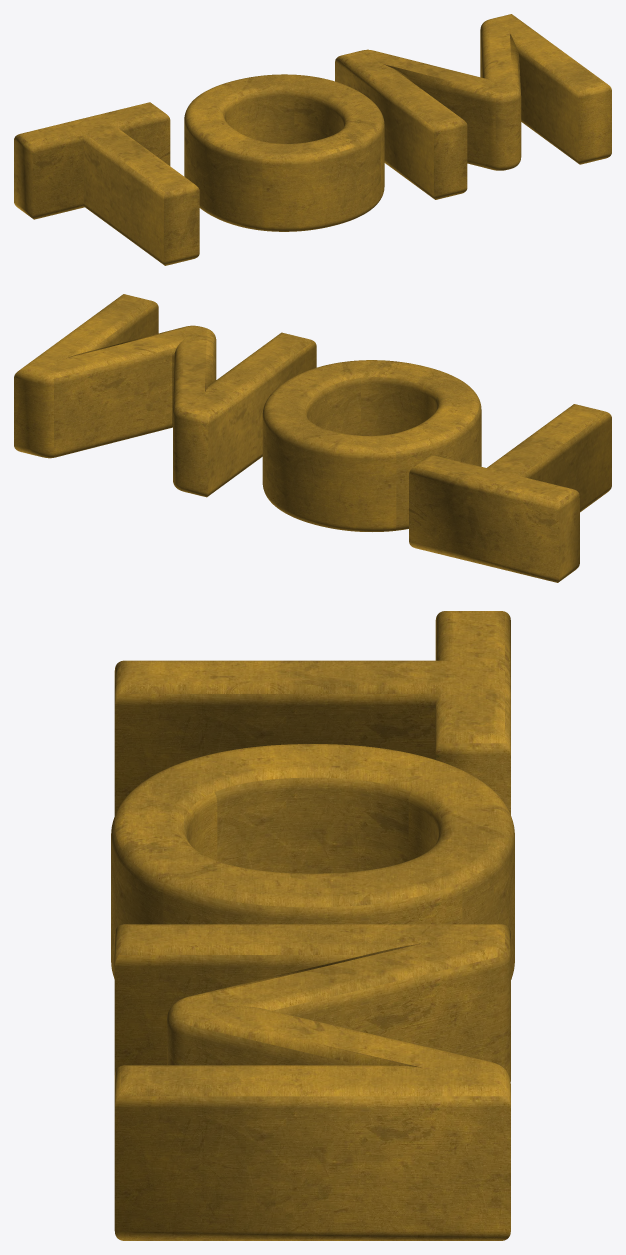
Rendered from TOM-transformed.glb.
3 renders of one model, top to bottom at view 1: azimuth 30°, elevation 25°; view 2: azimuth 150°, elevation 25°; view 3: azimuth 270°, elevation 25°, orthographic. The views are drawn at different scales.
Visible parts, largest first — view 1: Text; view 2: Text; view 3: Text.
Part boxes in pixels (x1=…): Text: x1=14, y1=14, x2=611, y2=265; Text: x1=14, y1=294, x2=611, y2=582; Text: x1=111, y1=611, x2=514, y2=1240.
Size of the model in its own units: 1.69 by 0.25 by 0.5934.
Materials: 1 (1 with a texture image).
